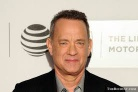male: (47, 10, 95, 77)
